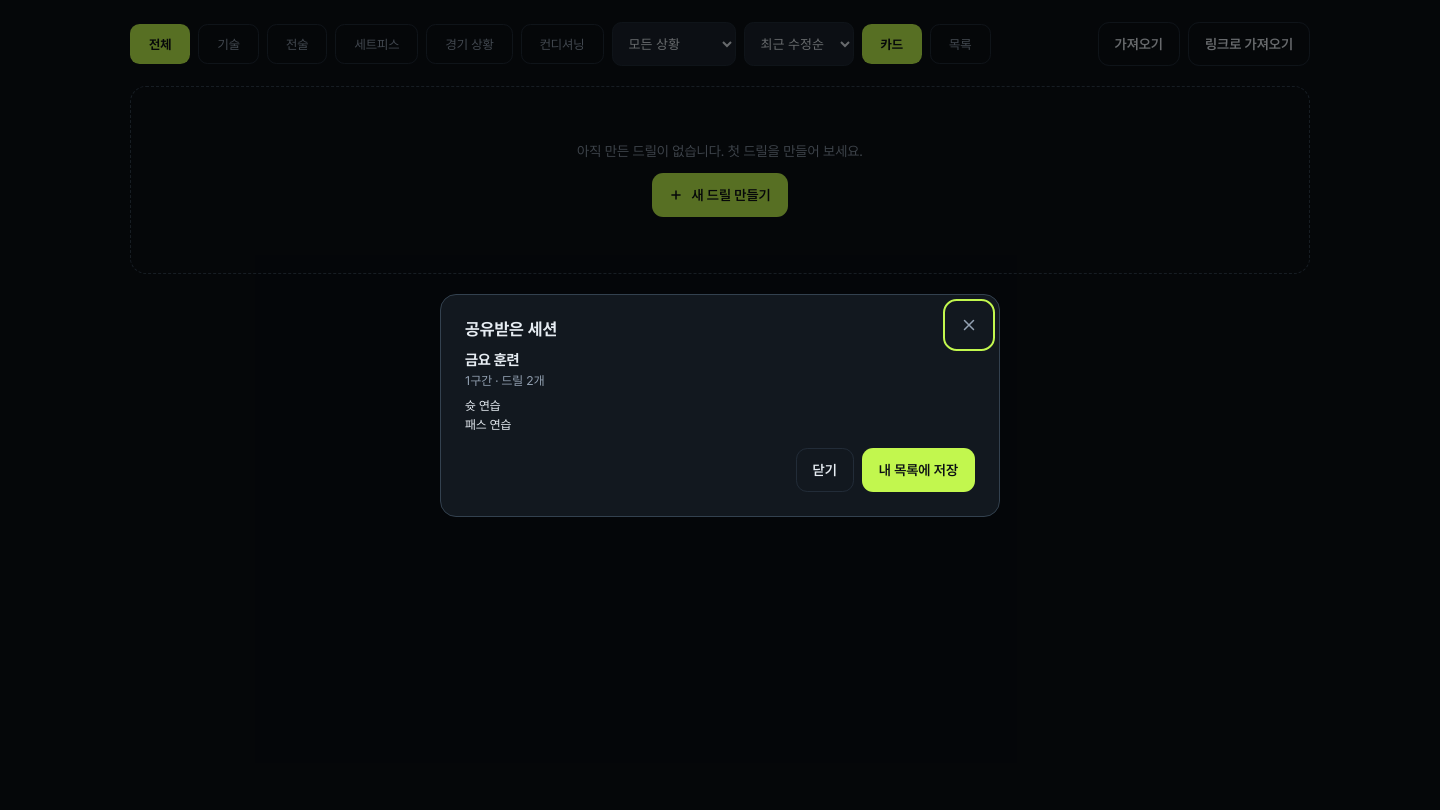
공유 링크 › 세션 링크를 저장하면 "드릴 N개와 세션 1개" 를 보고하고 세션 화면으로 간다(S4·S5)
Expected: the dialog "공유받은 세션" is shown, [440,294,1000,516]
Step 1. Click the button "내 목록에 저장" → (918, 470), box [862,448,975,492]
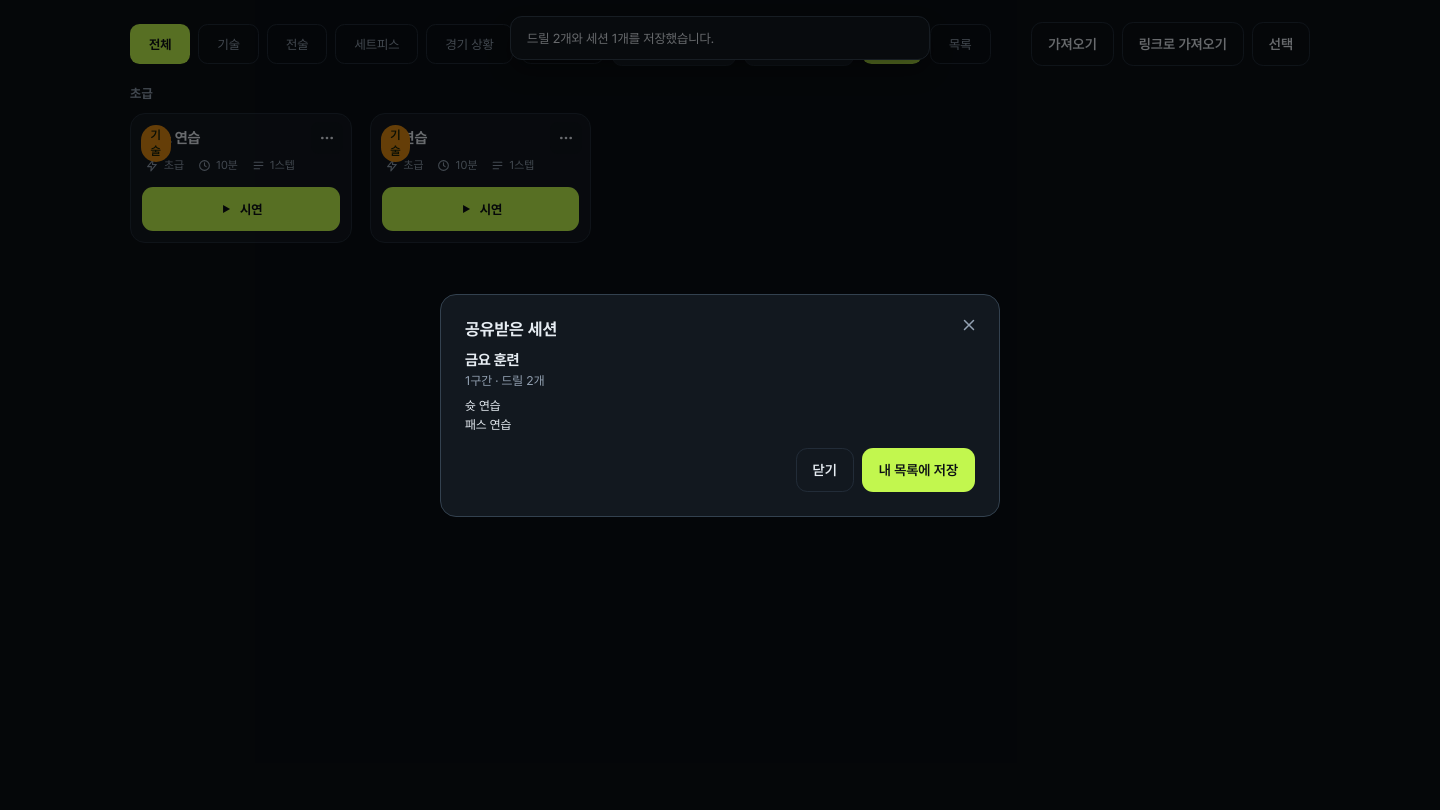
Now the text "드릴 2개와 세션 1개를 저장했습니다." is shown, box [527,30,714,46]
